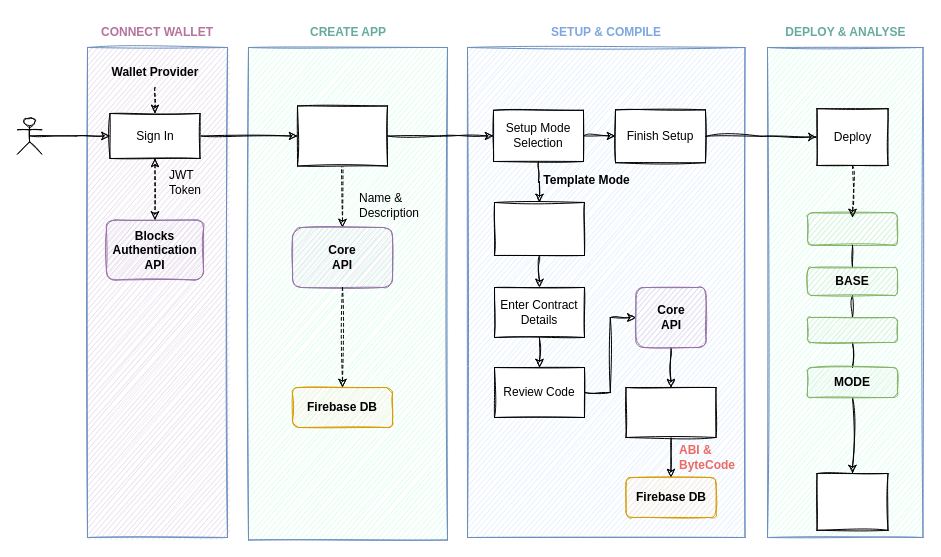
Image size: 941x557. Some labels were removed from this diagram. Here are the shapes that lost their labels. From the top down, the centre of each, then its label:
At (x=29, y=135): "User".
At (x=342, y=135): "Create New App".
At (x=539, y=229): "Select Template".
At (x=852, y=228): "OPTIMISM".
At (x=852, y=329): "ZORA".
At (x=670, y=412): "Compile".
At (x=852, y=501): "Analytics & Insights".
